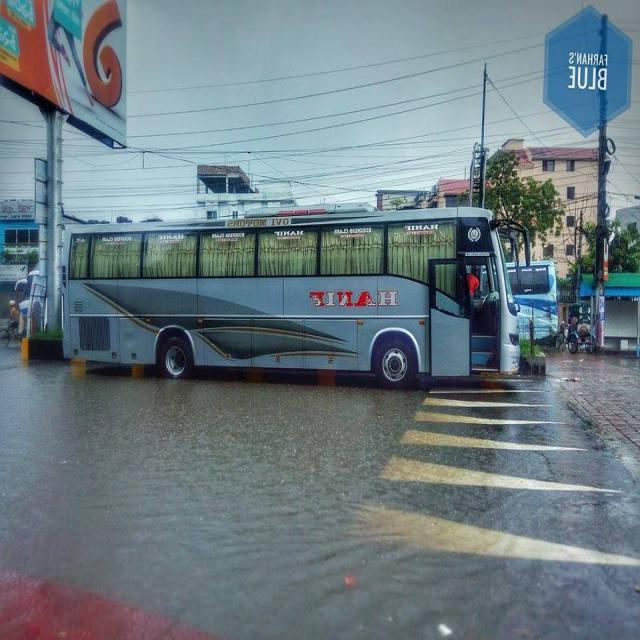Bus: (46, 196, 515, 402), (251, 253, 568, 373)
